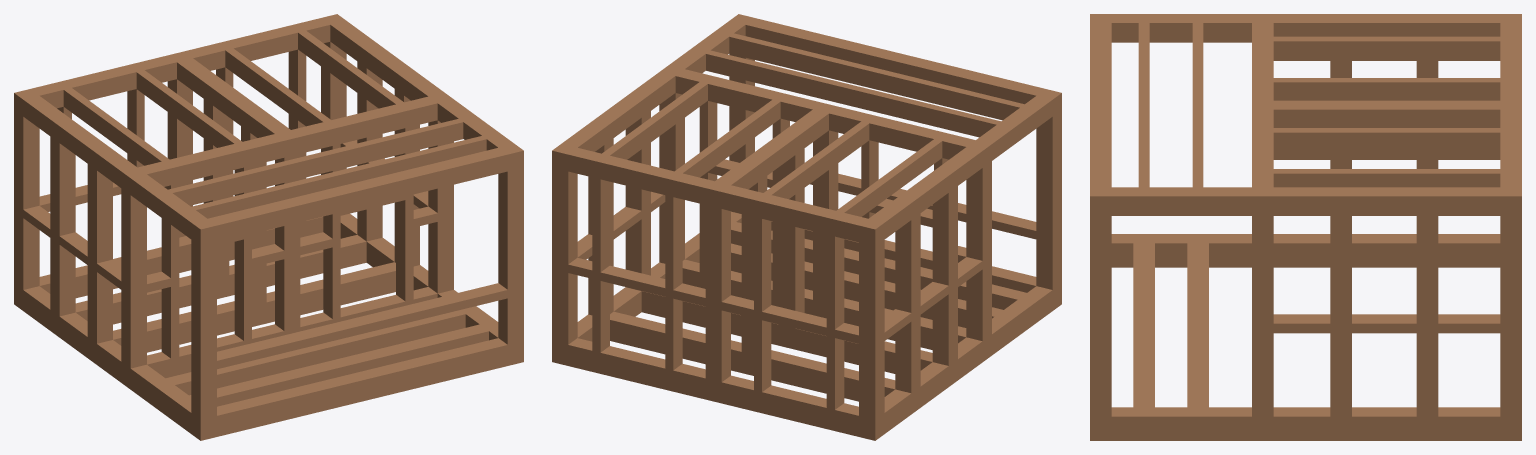
File: ConstructionFrame_Straight.fbx
3 views of the same model, side by side, from view 1: azimuth 30°, elevation 25°; view 2: azimuth 150°, elevation 25°; view 3: azimuth 270°, elevation 25° (orthographic). The views are drawn at different scales.
Parts seen in each view (by area): view 1: ConstructionFrame_Straight; view 2: ConstructionFrame_Straight; view 3: ConstructionFrame_Straight.
Boxes of the visible parts, x1=… form: ConstructionFrame_Straight: x1=14, y1=14, x2=523, y2=440; ConstructionFrame_Straight: x1=552, y1=14, x2=1061, y2=440; ConstructionFrame_Straight: x1=1090, y1=14, x2=1521, y2=440.
Bounding box in the file's own units: 8 × 5 × 8.
